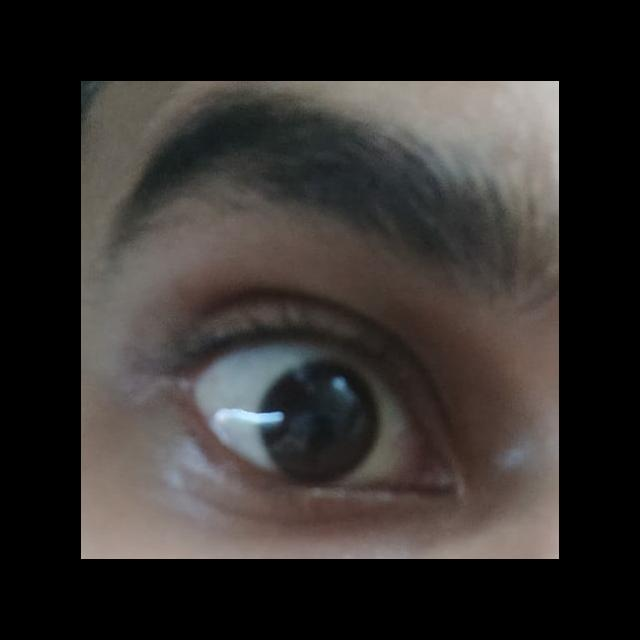eye: (187, 338, 427, 496)
iris: (258, 361, 382, 486)
